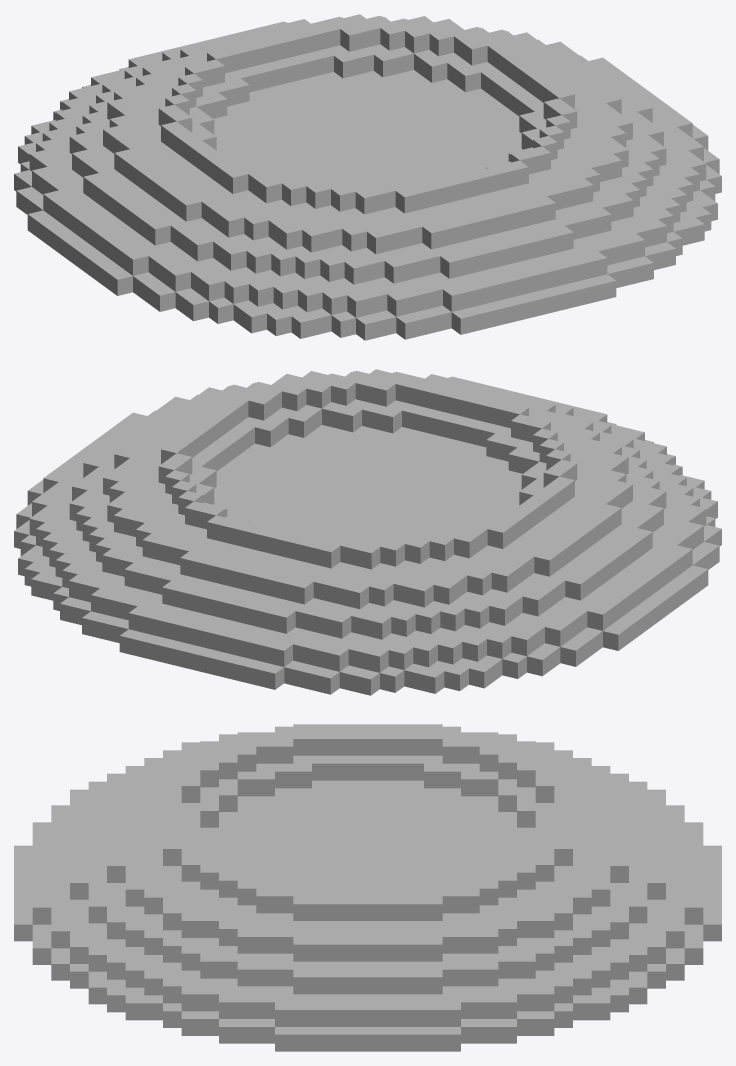
The model's file is UpgradeBase.obj.
3 renders of one model, top to bottom at view 1: azimuth 30°, elevation 25°; view 2: azimuth 150°, elevation 25°; view 3: azimuth 270°, elevation 25°, orthographic. The views are drawn at different scales.
Parts seen in each view (by area): view 1: UpgradeBase; view 2: UpgradeBase; view 3: UpgradeBase.
Part boxes in pixels (x1=…): UpgradeBase: x1=14, y1=14, x2=721, y2=340; UpgradeBase: x1=14, y1=369, x2=721, y2=695; UpgradeBase: x1=14, y1=724, x2=721, y2=1051.
Bounding box in the file's own units: 38 × 5 × 38.
1 material, 1 textured.
